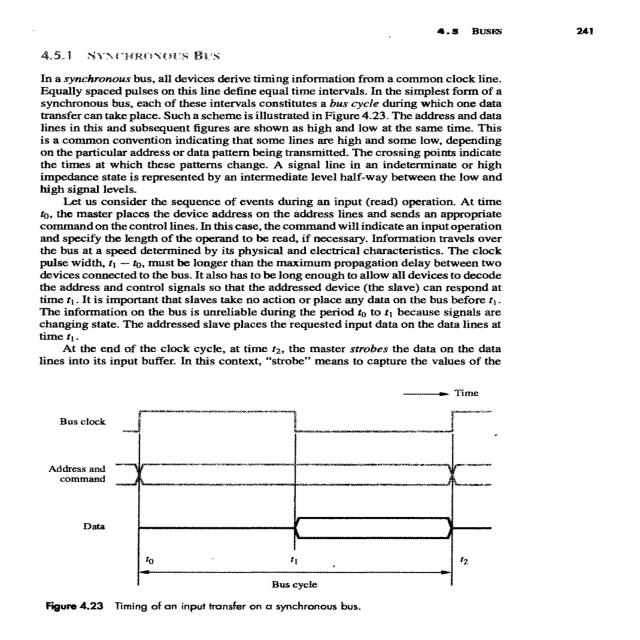diagram: (24, 383, 535, 628)
